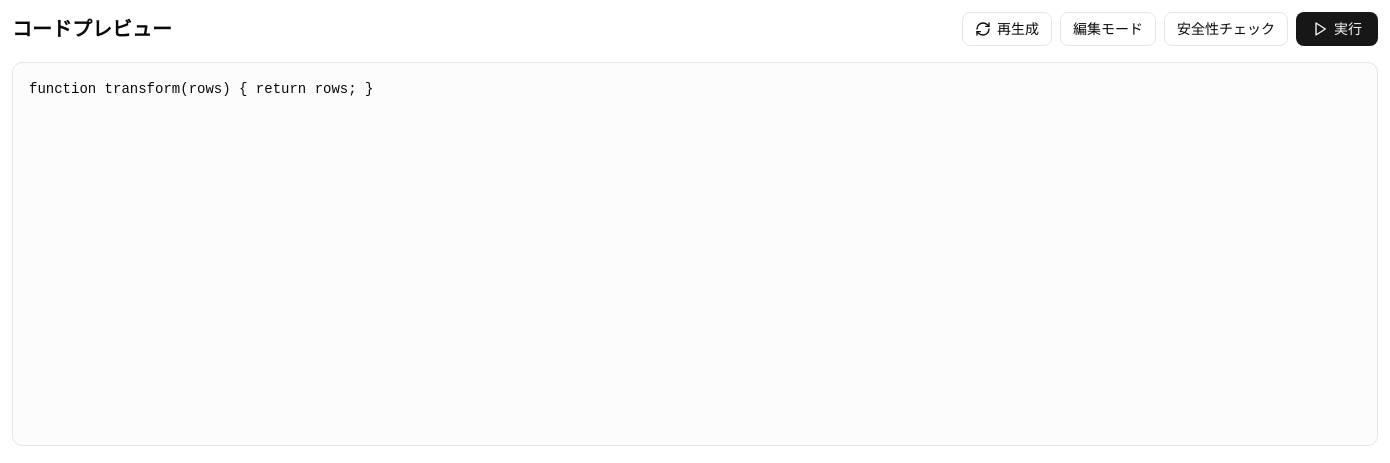
Test: CodePreview › switches to edit mode
Click the button "編集モード": click(1108, 29) 1060,12 -> 1156,46
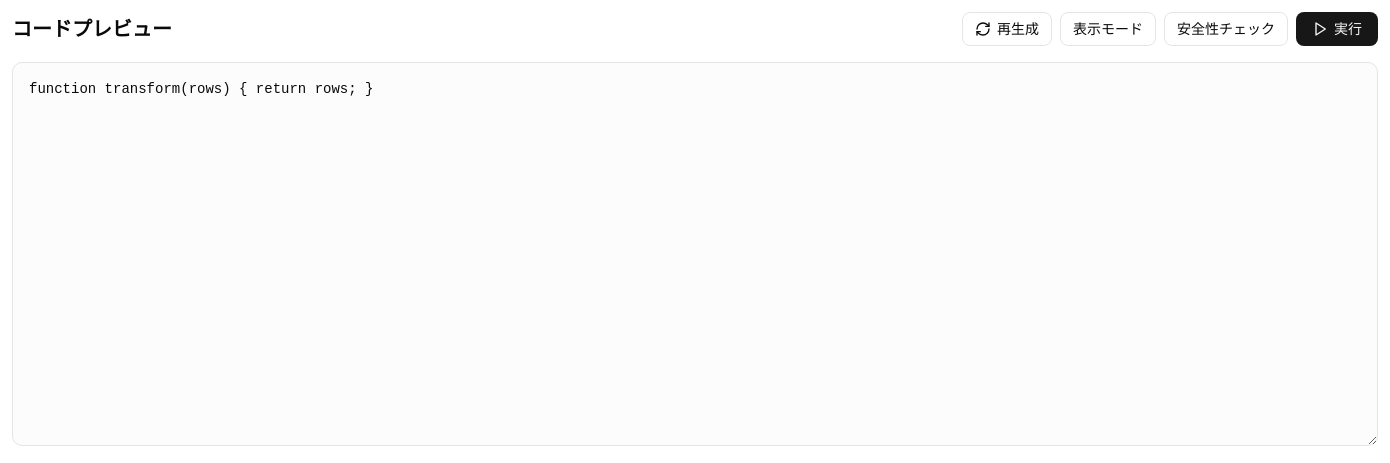
Result: the button "表示モード" is shown at 1060,12 -> 1156,46
